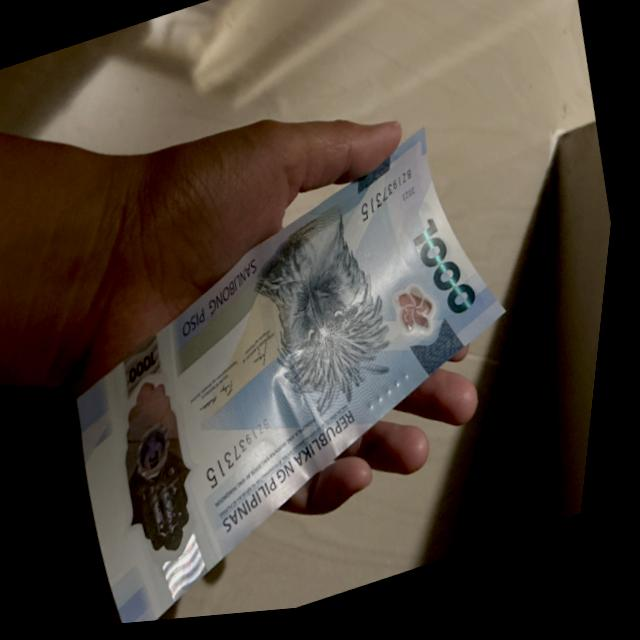clear_window: (96, 349, 240, 605)
eagle: (250, 198, 423, 435)
sampaguita: (389, 280, 451, 365)
serial_number: (198, 415, 295, 499), (357, 174, 426, 229)
